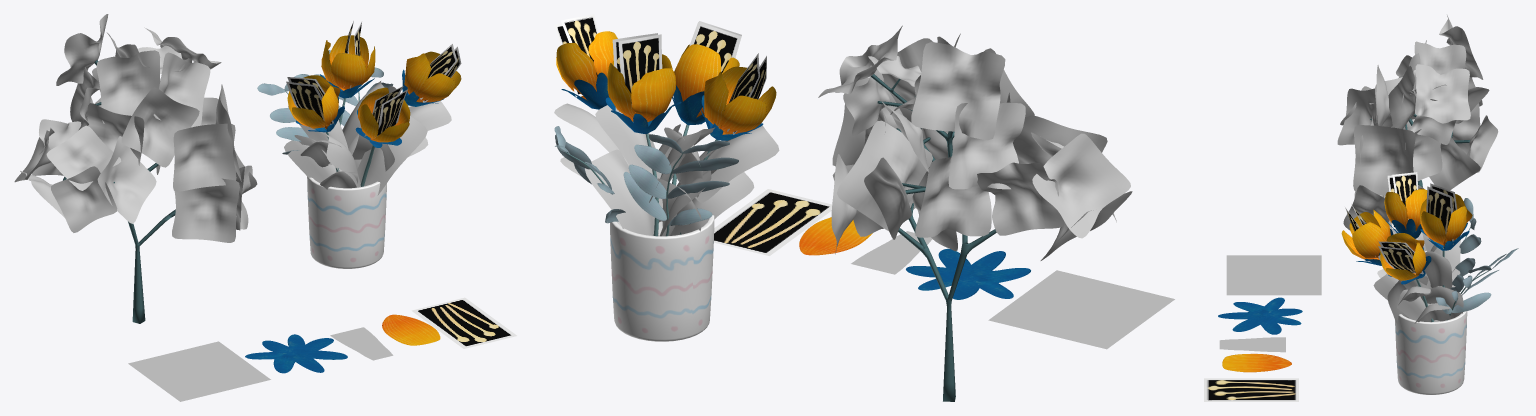
The model's file is flowers.fbx.
3 renders of one model, left to right at view 1: azimuth 30°, elevation 25°; view 2: azimuth 150°, elevation 25°; view 3: azimuth 270°, elevation 25°, orthographic. The views are drawn at different scales.
Visible parts, largest first — view 1: Cube.017, Circle, Cube.011, orangefloweror.028, blue flower, orangefloweror.029, orangefloweror.035, orangeflowermiddle, orangeflower_under, orangefloweror, Cube.006, Cube.009; view 2: Cube.017, orangefloweror.035, Circle, orangefloweror.028, blue flower, orangefloweror.029, orangeflowermiddle, Cube.009, Cube.011, orangeflower_under, Cube.006, orangefloweror (+1 smaller); view 3: Cube.017, Circle, orangefloweror.035, blue flower, orangefloweror.029, Cube.011, orangeflowermiddle, orangefloweror.028, orangeflower_under, Cube.010, orangefloweror, Cube.006 (+1 smaller).
Boxes of the visible parts, x1,y1,x2,y2 form: Cube.017: (14,14,257,323); Circle: (307,176,386,268); Cube.011: (320,86,427,195); orangefloweror.028: (284,75,357,189); blue flower: (128,341,270,401); orangefloweror.029: (352,44,461,171); orangefloweror.035: (294,21,384,170); orangeflowermiddle: (411,297,516,348); orangeflower_under: (245,334,347,373); orangefloweror: (382,314,440,345); Cube.006: (330,327,393,360); Cube.009: (257,74,339,154); Cube.017: (818,25,1132,401); orangefloweror.035: (585,33,718,236); Circle: (610,215,714,341); orangefloweror.028: (657,53,779,235); blue flower: (988,270,1174,349); orangefloweror.029: (554,14,682,176); orangeflowermiddle: (714,189,832,255); Cube.009: (623,134,738,236); Cube.011: (658,21,741,222); orangeflower_under: (906,248,1030,299); Cube.006: (851,231,932,274); orangefloweror: (799,217,872,255); Cube.017: (1337,15,1498,251); Circle: (1395,311,1467,394); orangefloweror.035: (1419,183,1472,319); blue flower: (1226,255,1321,295); orangefloweror.029: (1373,233,1450,323); Cube.011: (1341,204,1428,323); orangeflowermiddle: (1204,378,1298,401); orangefloweror.028: (1377,172,1458,278); orangeflower_under: (1218,297,1302,334); Cube.010: (1436,248,1518,320); orangefloweror: (1222,353,1291,372); Cube.006: (1219,337,1285,352).
Size of the model in its own units: 483 by 308 by 335.
